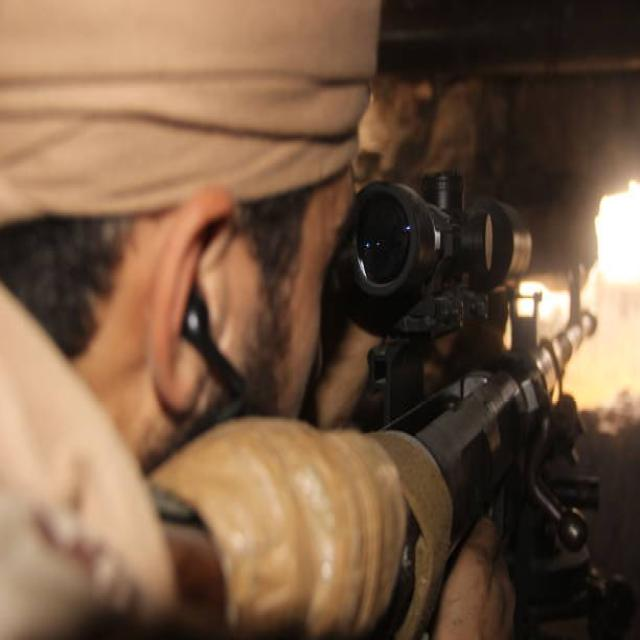soldier: (1, 1, 601, 640)
